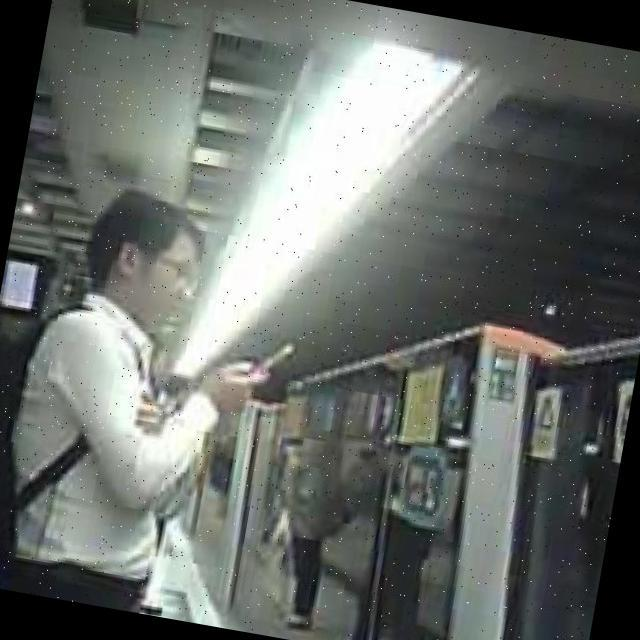person: (0, 167, 303, 629), (256, 428, 355, 634)
